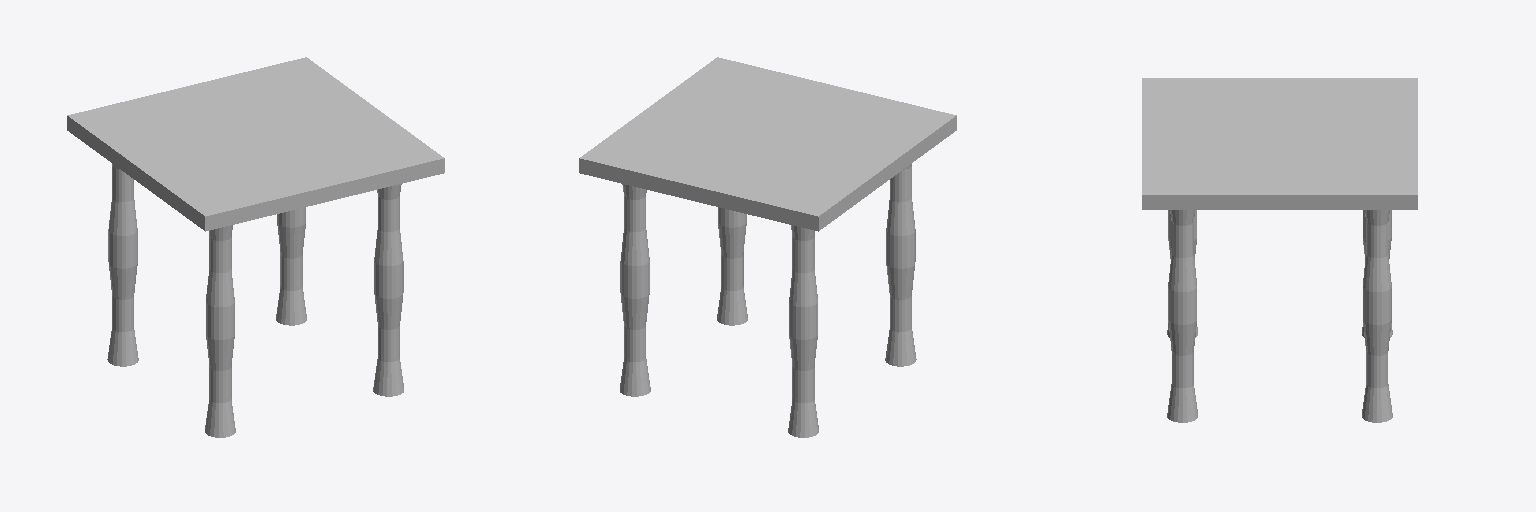
File: TextureTableRemodel.obj
3 renders of one model, left to right at view 1: azimuth 30°, elevation 25°; view 2: azimuth 150°, elevation 25°; view 3: azimuth 270°, elevation 25°, orthographic.
Visible parts, largest first — view 1: pCube1, pCube1 TableLeg TableLeg2 TableLeg3 TableLeg1; view 2: pCube1, pCube1 TableLeg TableLeg2 TableLeg3 TableLeg1; view 3: pCube1, pCube1 TableLeg TableLeg2 TableLeg3 TableLeg1.
Part boxes in pixels (bbox=[...]): pCube1: bbox=[67, 57, 444, 231]; pCube1 TableLeg TableLeg2 TableLeg3 TableLeg1: bbox=[107, 164, 403, 437]; pCube1: bbox=[579, 57, 956, 231]; pCube1 TableLeg TableLeg2 TableLeg3 TableLeg1: bbox=[620, 164, 916, 437]; pCube1: bbox=[1142, 78, 1417, 209]; pCube1 TableLeg TableLeg2 TableLeg3 TableLeg1: bbox=[1167, 210, 1392, 422].
Bounding box in the file's own units: 8.52 × 8.11 × 8.52.